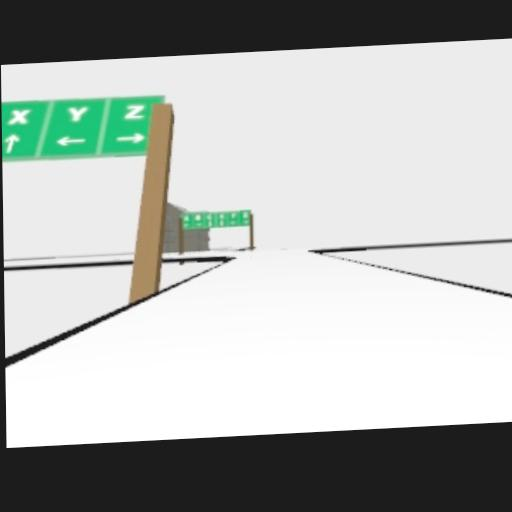Left: (55, 134, 86, 145)
Right: (115, 131, 146, 144)
Straight: (4, 132, 18, 151)
X: (8, 105, 31, 125)
Y: (66, 103, 89, 123)
Z: (124, 101, 147, 121)
